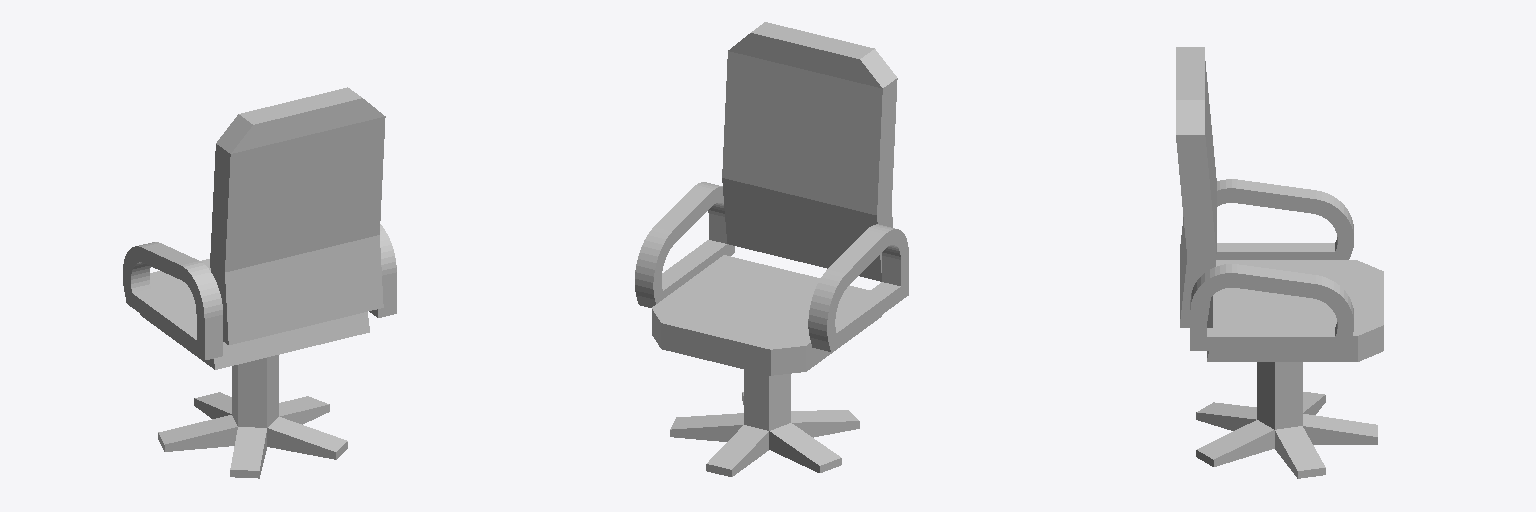
Rendered from chairDesk.obj.
3 renders of one model, left to right at view 1: azimuth 30°, elevation 25°; view 2: azimuth 150°, elevation 25°; view 3: azimuth 270°, elevation 25°, orthographic.
Parts seen in each view (by area): view 1: chair 1, chairDesk; view 2: chair 1, chairDesk; view 3: chair 1, chairDesk.
Boxes of the visible parts, <box> form: chair 1: <box>123,87,396,369</box>; chairDesk: <box>158,355,347,478</box>; chair 1: <box>635,22,908,375</box>; chairDesk: <box>670,370,859,476</box>; chair 1: <box>1176,47,1383,361</box>; chairDesk: <box>1196,362,1377,478</box>.
Size of the model in its own units: 3.35 by 6.08 by 3.14.